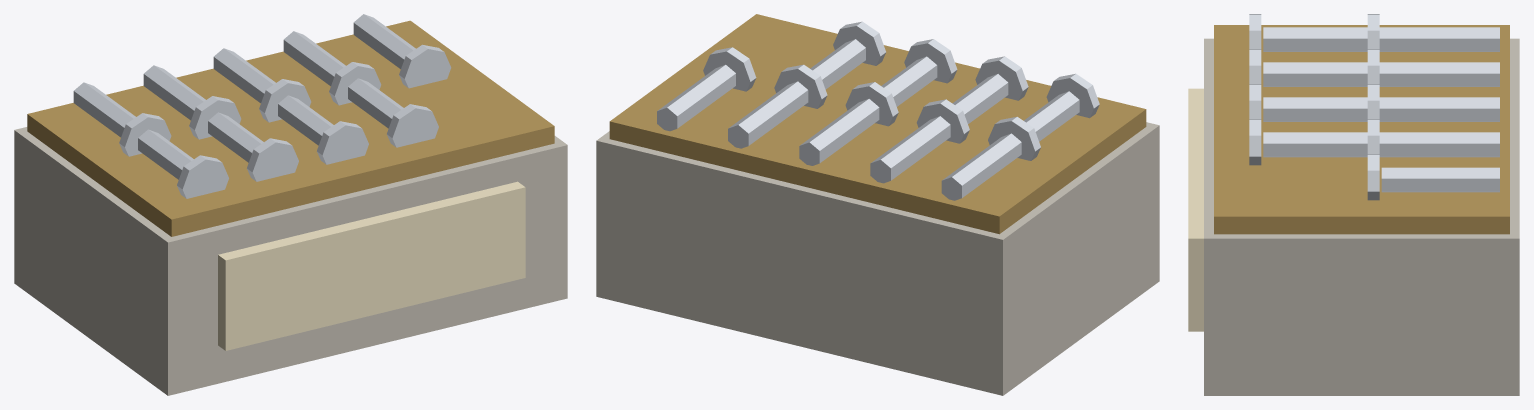
File: nail_box.glb
3 views of the same model, side by side, from view 1: azimuth 30°, elevation 25°; view 2: azimuth 150°, elevation 25°; view 3: azimuth 270°, elevation 25° (orthographic). The views are drawn at different scales.
Visible parts, largest first — view 1: nail_box; view 2: nail_box; view 3: nail_box.
Boxes of the visible parts, <box> form: nail_box: <box>14,14,567,395</box>; nail_box: <box>596,14,1159,395</box>; nail_box: <box>1188,14,1519,395</box>.
Bounding box in the file's own units: 0.12 × 0.059 × 0.084.
